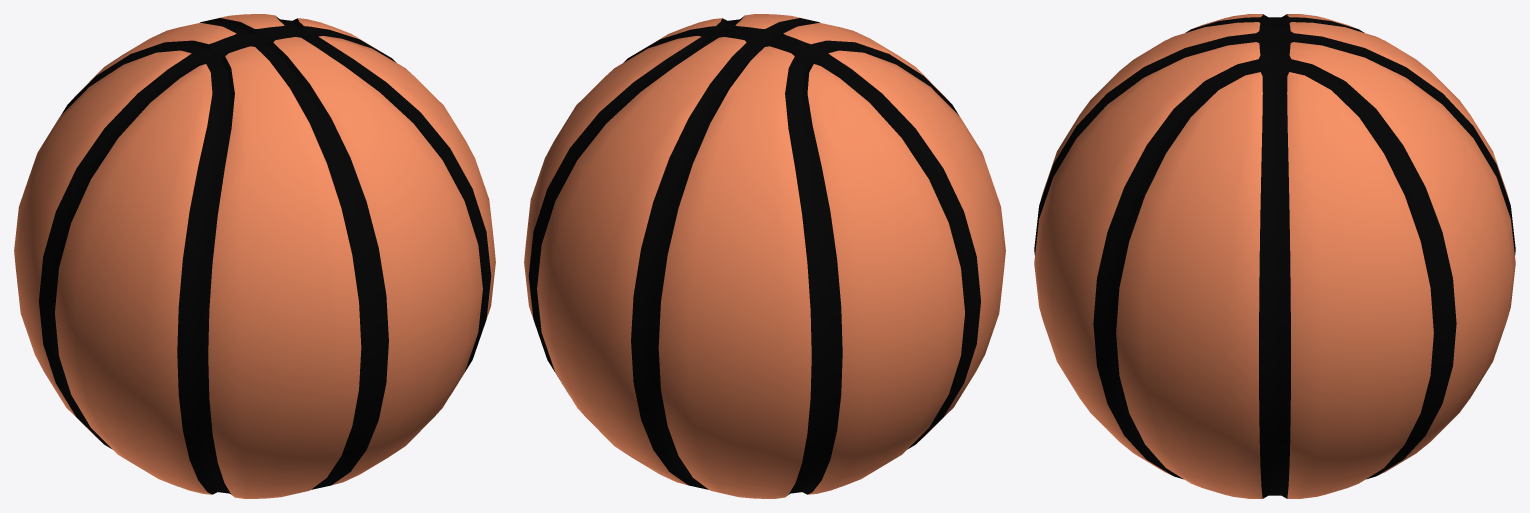
The picture shows the model from 3 angles, left to right: view 1: azimuth 30°, elevation 25°; view 2: azimuth 150°, elevation 25°; view 3: azimuth 270°, elevation 25°; orthographic projection.
Visible parts, largest first — view 1: 篮球; view 2: 篮球; view 3: 篮球.
Boxes of the visible parts, x1,y1,x2,y2 form: 篮球: [14, 14, 495, 498]; 篮球: [524, 14, 1005, 498]; 篮球: [1034, 14, 1515, 498].
Bounding box in the file's own units: 1.89 × 1.9 × 1.89.
